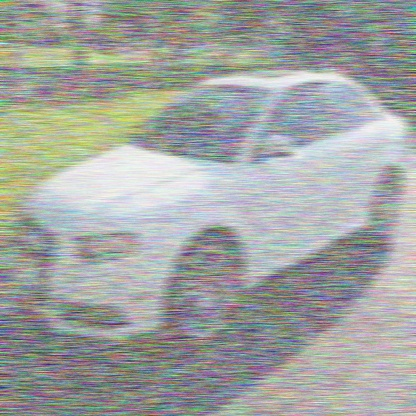Vehicle: (7, 69, 410, 362)
